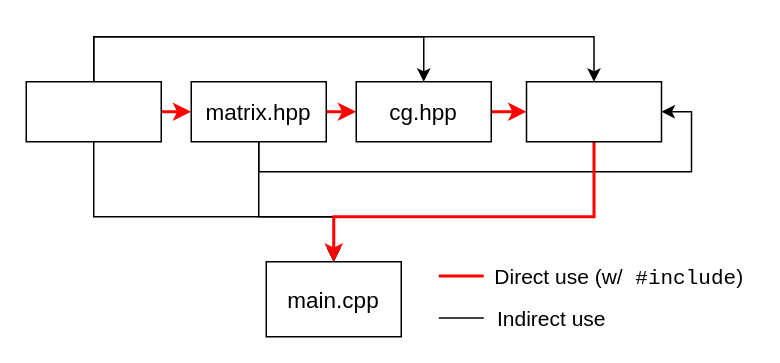
Some shapes in this 780 by 363 pixel diagram are drawn without their labels. The shapes that lost their labels are listed below. From the top down, each one's centre as x and y in pixels, then its label:
At point 93,111: "vector.hpp".
At point 593,111: "heat.hpp".
